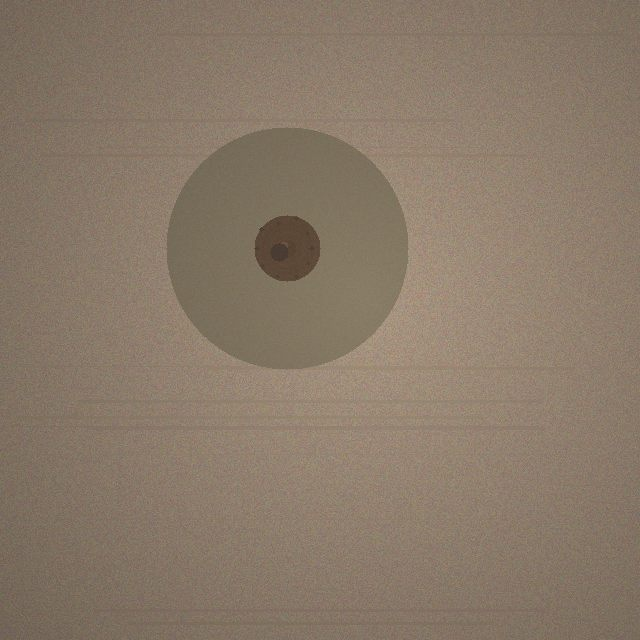cold_weld: (166, 127, 408, 369)
